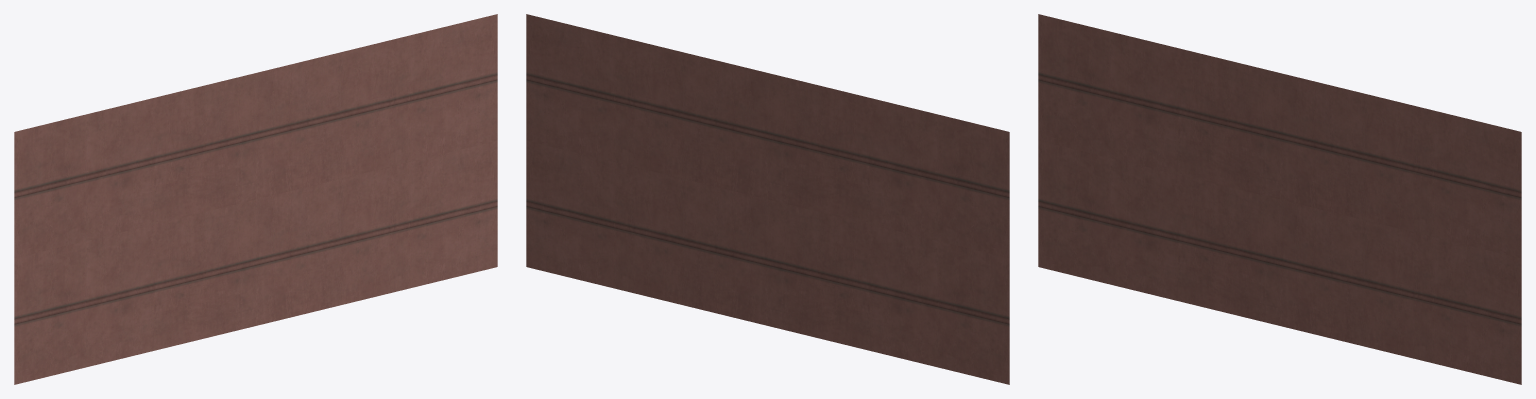
File: House_04_Wall_02.fbx
3 views of the same model, side by side, from view 1: azimuth 30°, elevation 25°; view 2: azimuth 150°, elevation 25°; view 3: azimuth 330°, elevation 25° (orthographic).
Parts seen in each view (by area): view 1: House_04_Wall_02; view 2: House_04_Wall_02; view 3: House_04_Wall_02.
Boxes of the visible parts, x1,y1,x2,y2 form: House_04_Wall_02: (14,14,497,384); House_04_Wall_02: (526,14,1009,384); House_04_Wall_02: (1038,14,1521,384).
Size of the model in its own units: 400 by 200 by 0.
